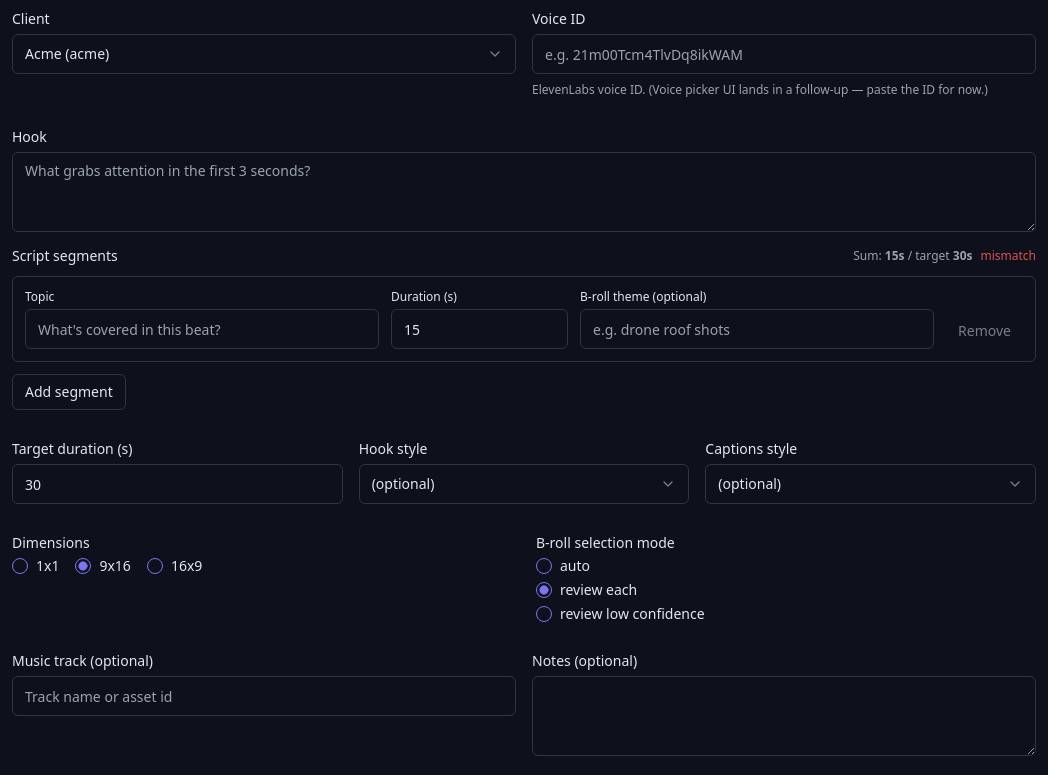
VideoBriefForm › enables Remove once there are 2+ segments
What coordinates should you click on to do the following:
click the button "Add segment"
I would click on:
 (69, 392)
Its box is x1=12 y1=374 x2=126 y2=410.
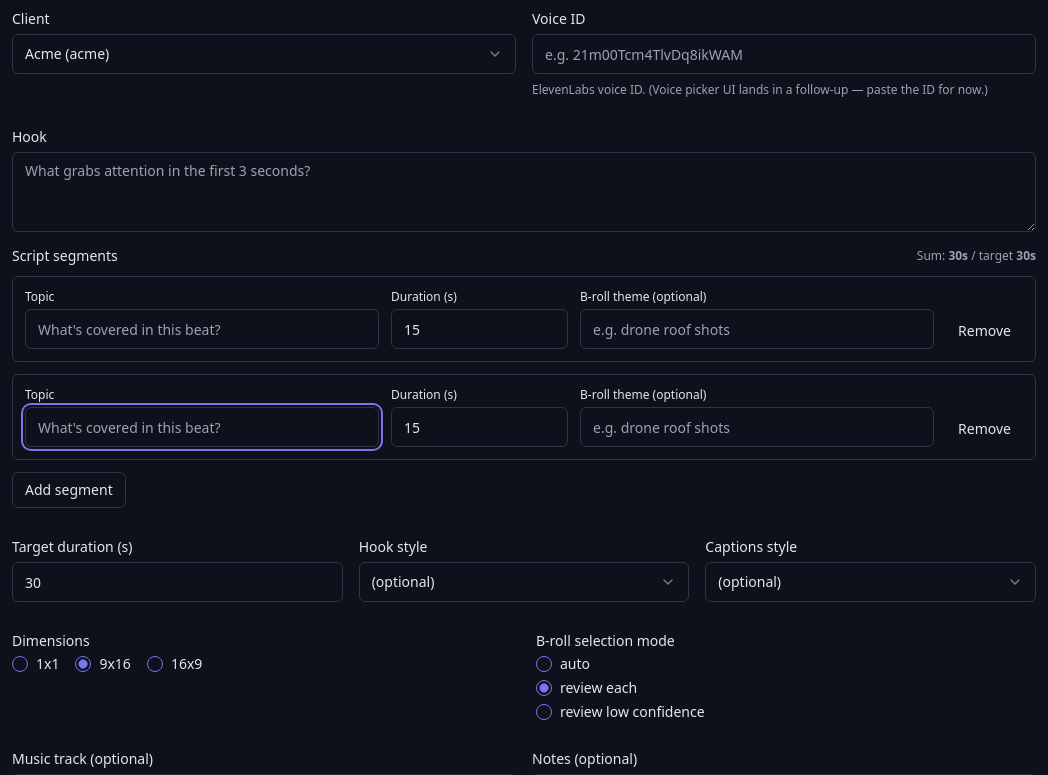
Expected: the 1st button "Remove" is enabled, x1=946 y1=313 x2=1023 y2=349
Expected: the 2nd button "Remove" is enabled, x1=946 y1=411 x2=1023 y2=447
